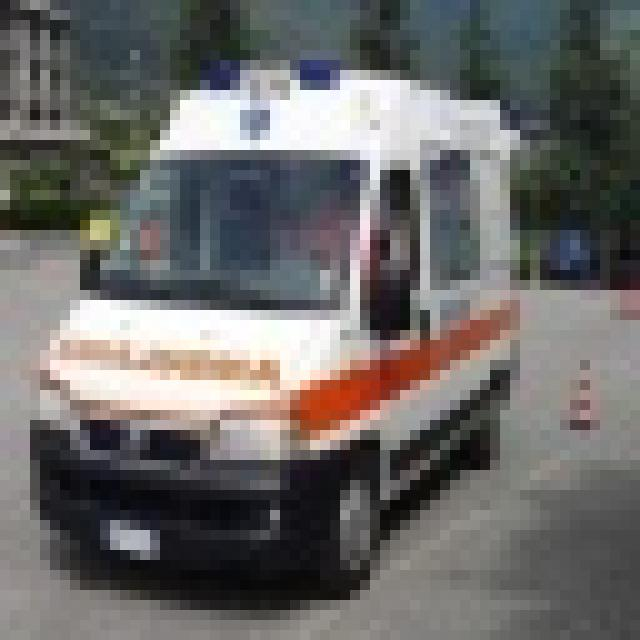Ambulance: (20, 50, 520, 590)
